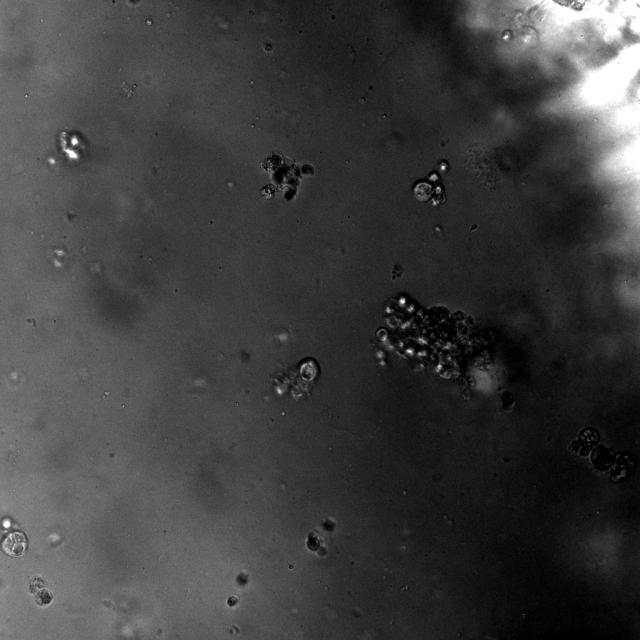organoid: (375, 293, 494, 398), (568, 427, 638, 482), (260, 151, 315, 200), (273, 357, 320, 400), (412, 158, 451, 206), (0, 516, 27, 556), (57, 130, 87, 163), (29, 575, 52, 606), (552, 0, 604, 11), (306, 532, 326, 555), (501, 390, 514, 411), (322, 517, 336, 532), (238, 571, 248, 586), (227, 594, 238, 607)
